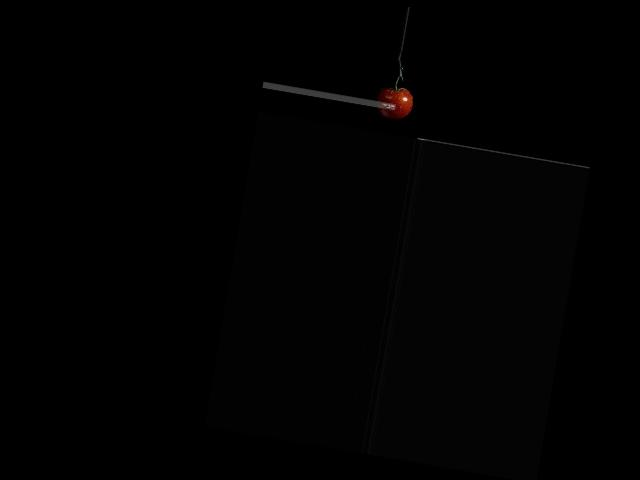tomato: (375, 85, 414, 120)
